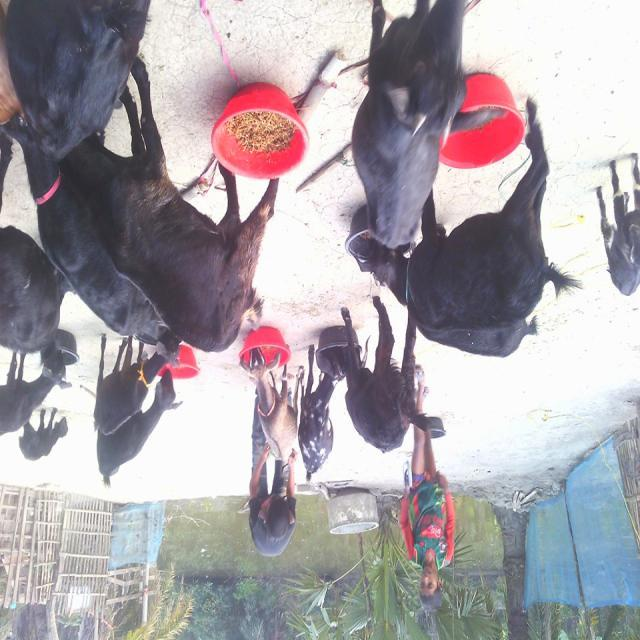Goat: (63, 58, 279, 356), (351, 100, 582, 346), (350, 2, 505, 252), (340, 296, 429, 455), (95, 369, 183, 491), (297, 345, 344, 483), (595, 154, 639, 298), (249, 362, 304, 472), (18, 408, 68, 462)
